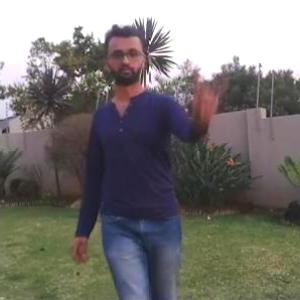takeoff-hand: (186, 66, 231, 126)
